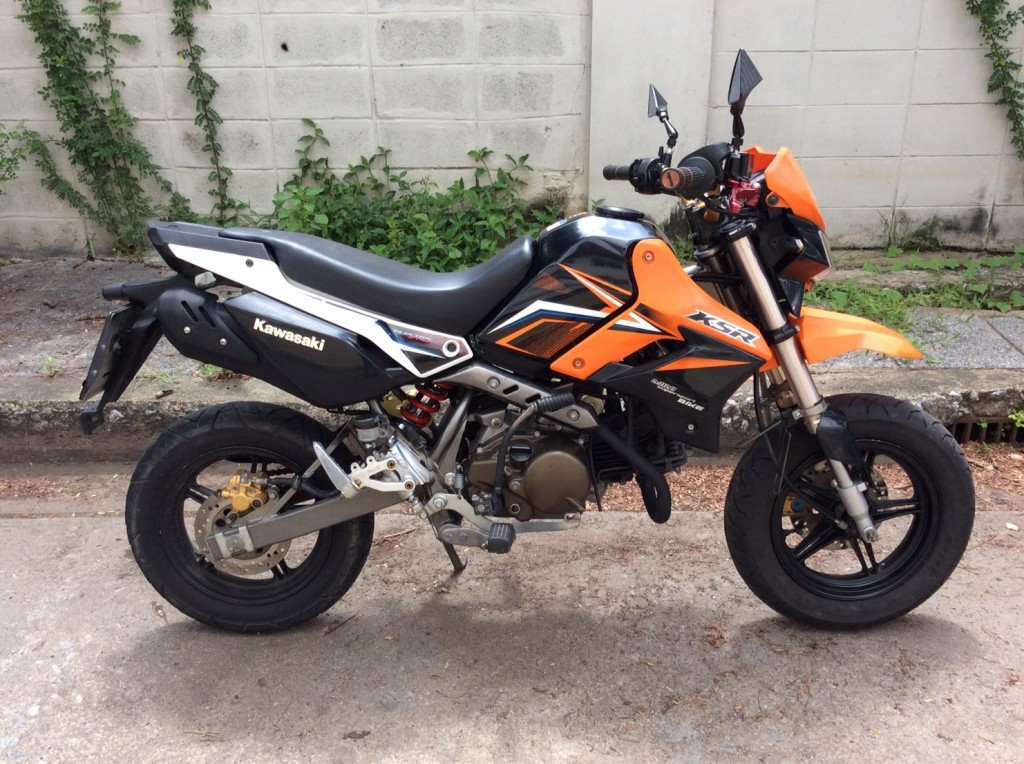motorcycle: (104, 157, 973, 633)
